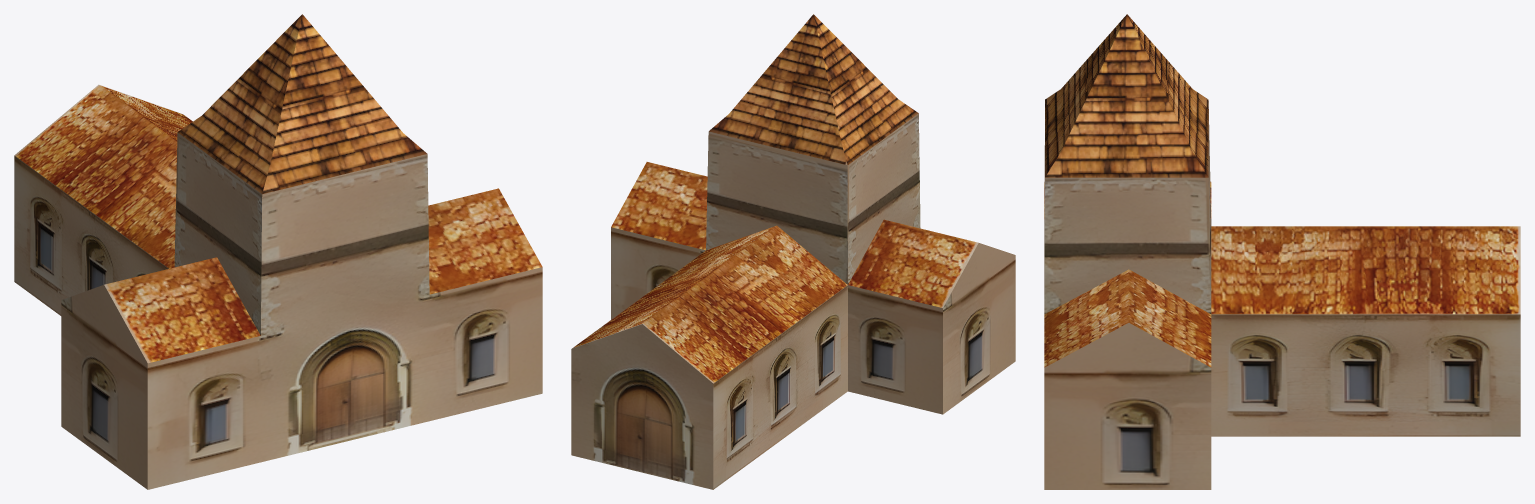
Rendered from villachurch.gltf.
3 views of the same model, side by side, from view 1: azimuth 30°, elevation 25°; view 2: azimuth 150°, elevation 25°; view 3: azimuth 270°, elevation 25° (orthographic). The views are drawn at different scales.
Visible parts, largest first — view 1: villachurch_atomic0; view 2: villachurch_atomic0; view 3: villachurch_atomic0.
Boxes of the visible parts, x1=… form: villachurch_atomic0: x1=14, y1=14, x2=542, y2=489; villachurch_atomic0: x1=571, y1=14, x2=1015, y2=489; villachurch_atomic0: x1=1044, y1=14, x2=1520, y2=489.
Size of the model in its own units: 43.67 by 41.9 by 47.22.
Materials: 1 (1 with a texture image).
